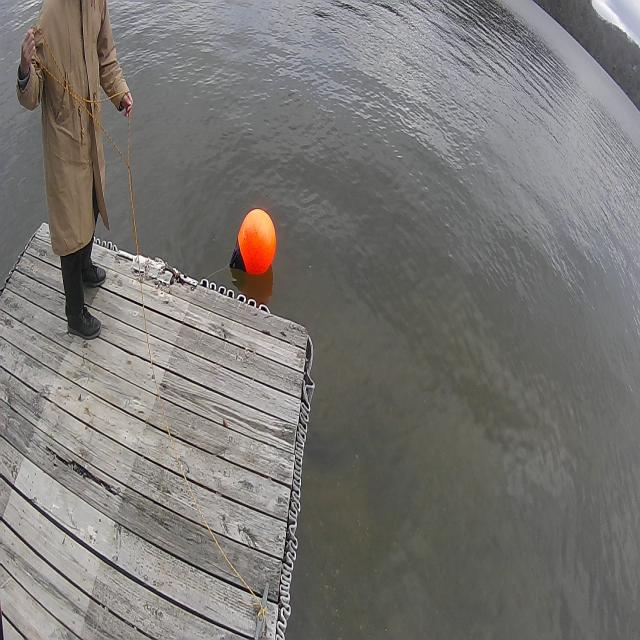Buoy: (235, 201, 277, 281)
